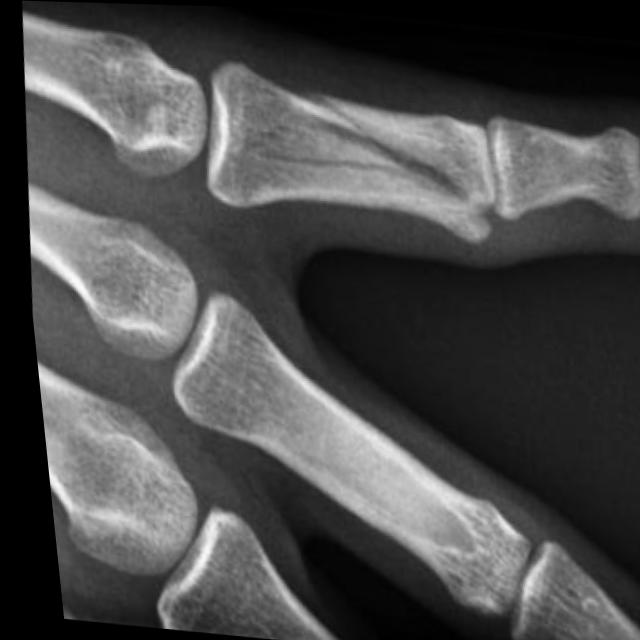fracture: (260, 64, 506, 241)
